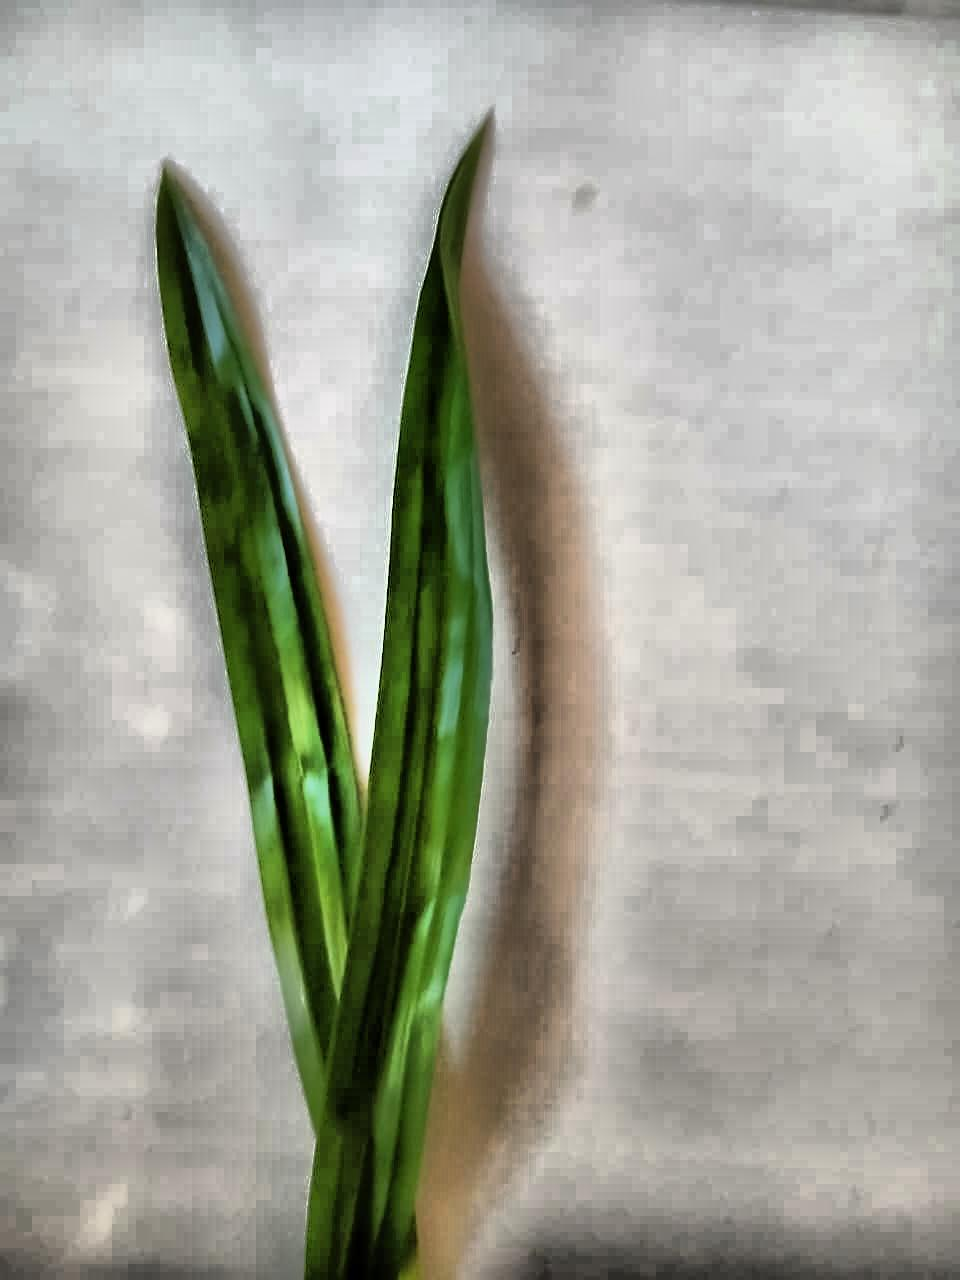daun pandan: (156, 123, 491, 1279)
